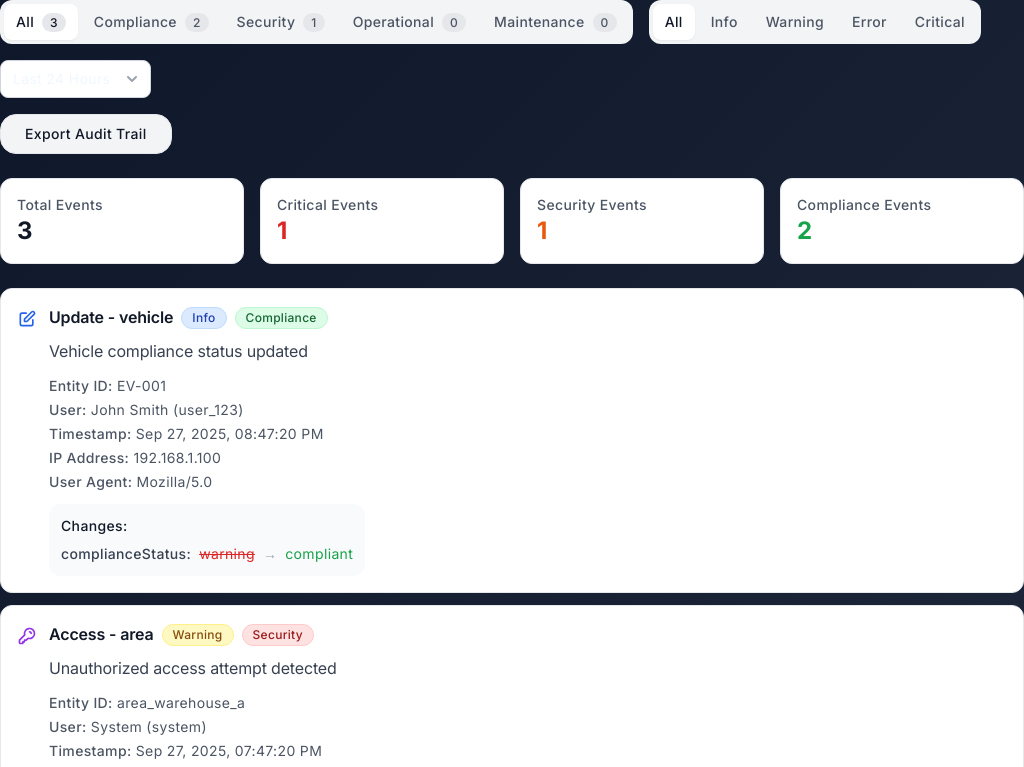
Test: AuditTrailViewer › filters audit trails by severity
The width and height of the screenshot is (1024, 767).
// Click on critical severity filter
Click the button "Critical" at coordinates (940, 22), box left=903, top=4, right=977, bottom=40
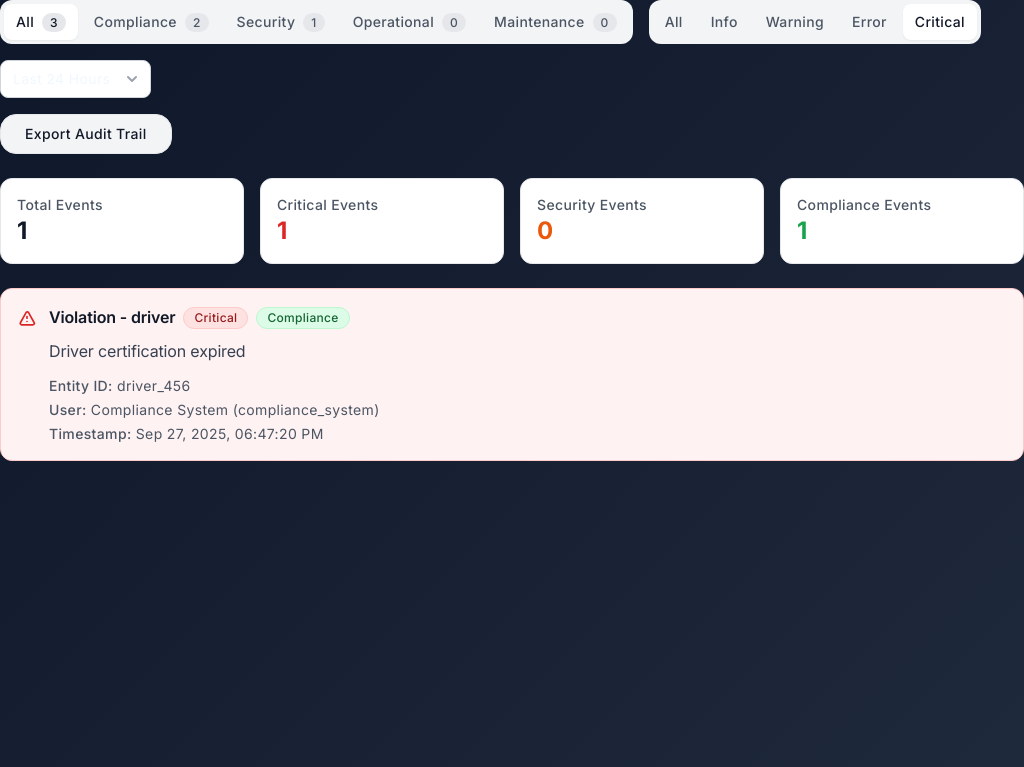
Expected: the text "Driver certification expired" is shown, left=49, top=341, right=246, bottom=361
Expected: the text "Vehicle compliance status updated" is gone
Expected: the text "Unauthorized access attempt detected" is gone
